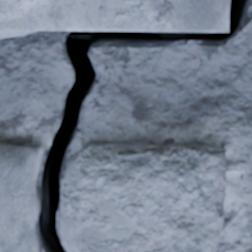brick: (0, 0, 228, 37)
broken_brick: (61, 140, 226, 251), (0, 146, 41, 251)
crack: (0, 0, 249, 251)
